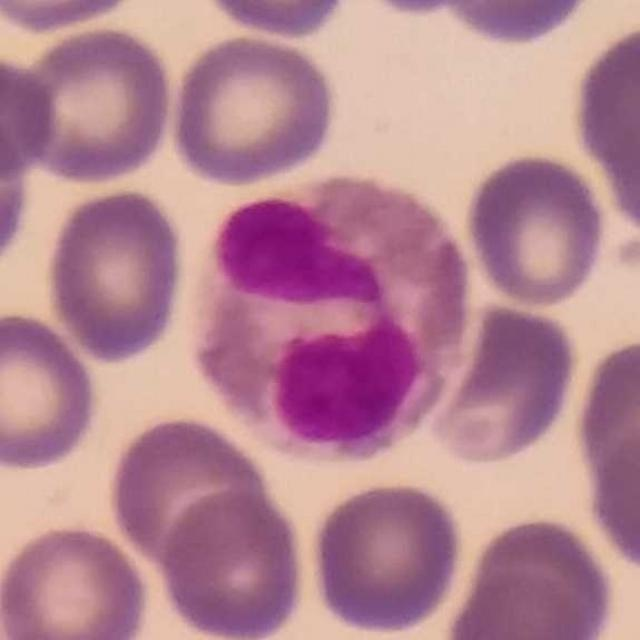eosino: (189, 171, 473, 459)
